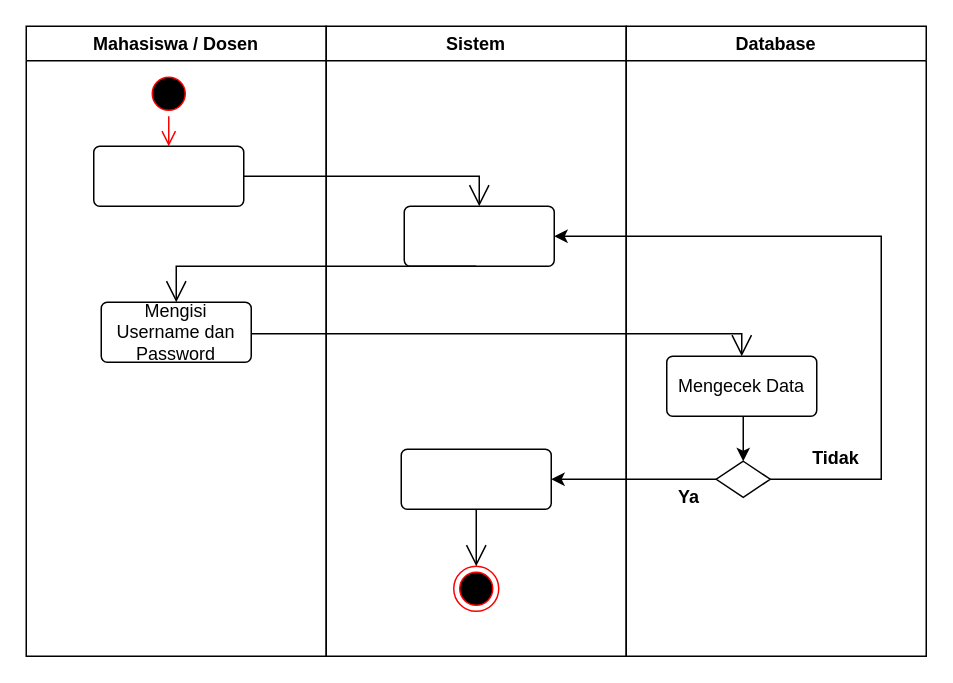
This 953x683 diagram has some shape labels left out. Here are the shapes that lost their labels. From the top down, the centre of each, then its label:
the point at 168,175: Mengetikkan Alamat Laman Web
the point at 478,235: Menampilkan Laman Login
the point at 475,478: Menampilkan Halaman Utama
